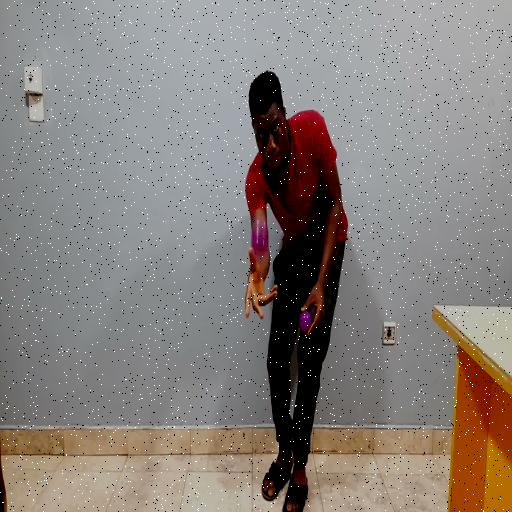plastic-ball: (250, 222, 269, 256)
